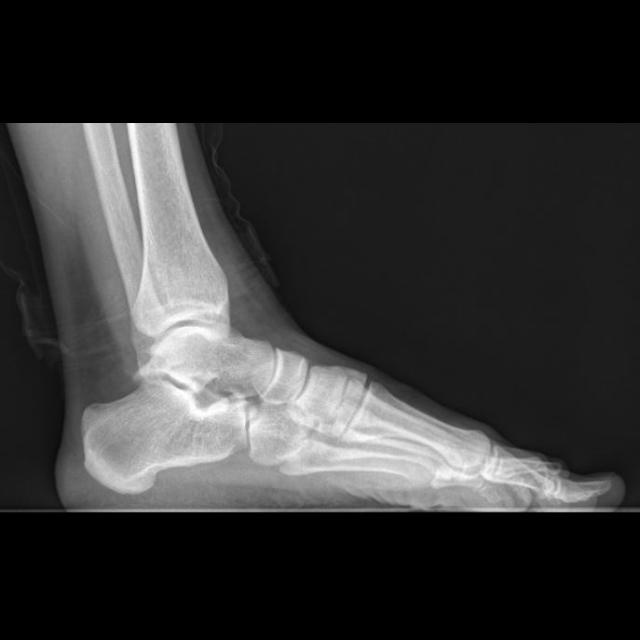a: (83, 378, 249, 496)
b: (261, 348, 306, 402)
c: (341, 382, 490, 468)
